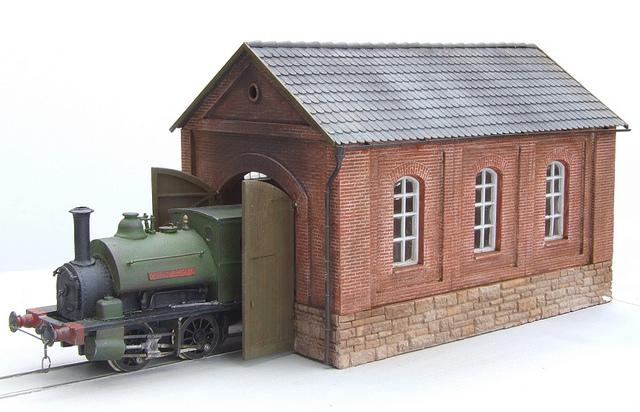Train: (7, 201, 244, 374)
